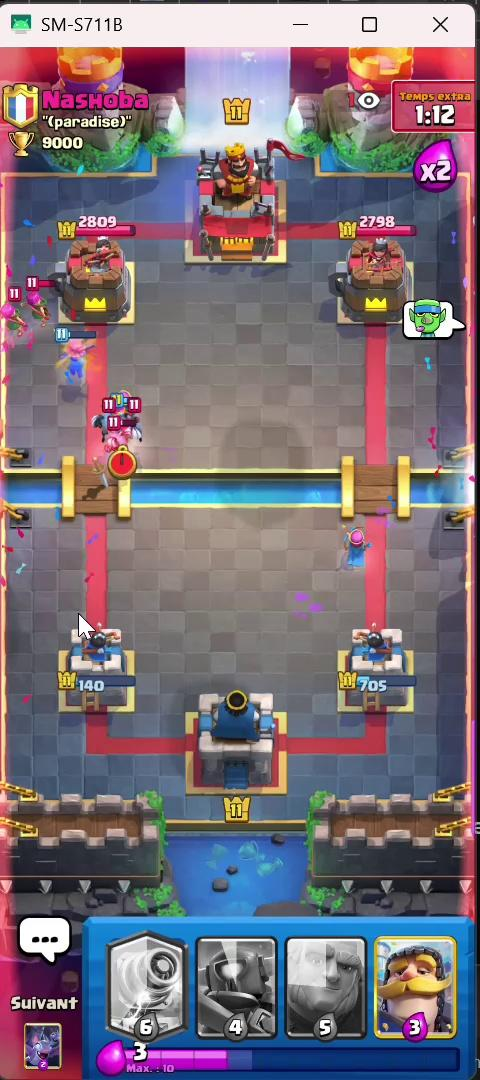archere: (21, 277, 59, 325), (3, 272, 28, 342), (118, 377, 135, 412)
gargouille: (109, 407, 151, 444), (88, 401, 119, 443)
valkyrie: (54, 333, 100, 387)
